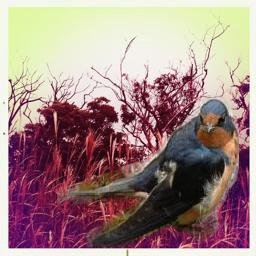Swallow: (57, 95, 239, 247)
